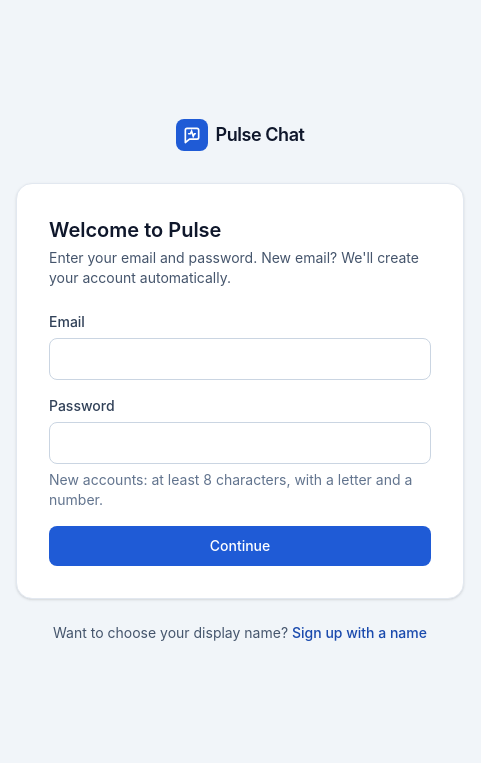
Test: login › hides the username field again if the email is changed
Type "new@example.com" into the field labelled "Email" at (240, 359), box [49,338,431,380]
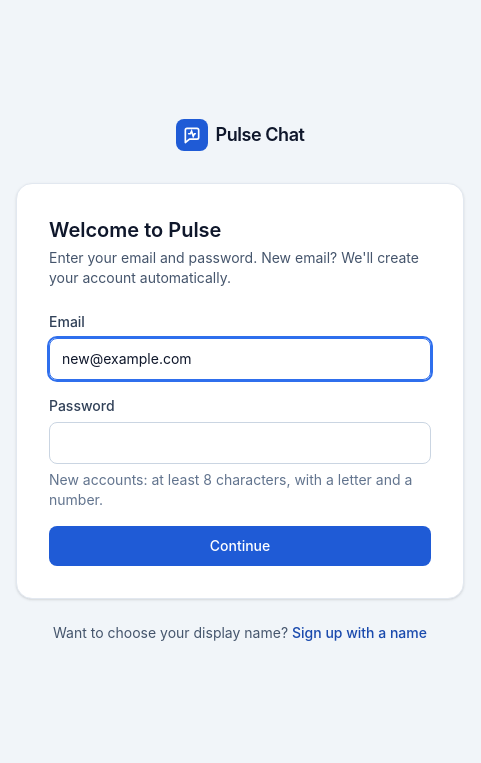
Type "Password123" into the password field labelled "Password" at (240, 443), box [49,422,431,464]
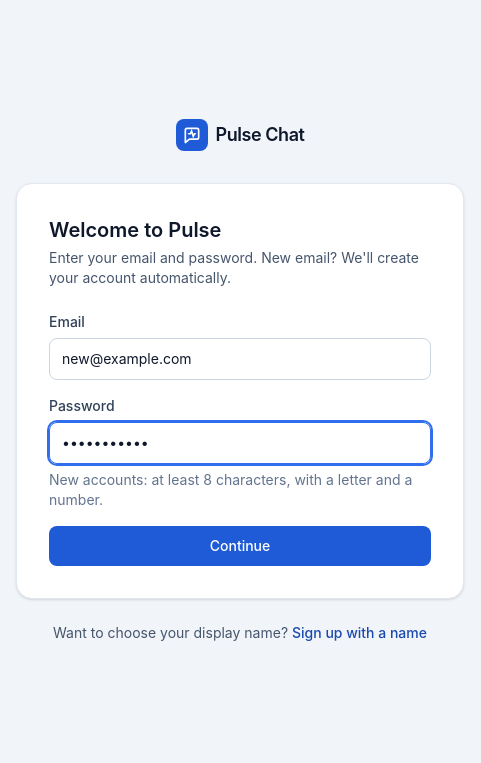
Click the button "Continue" at (240, 546), box [49,526,431,566]
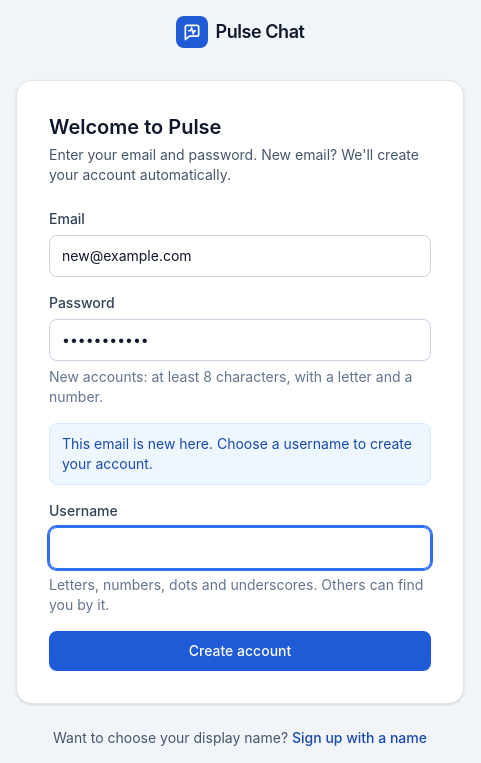
Expected: the field labelled "Username" is shown, [49,527,431,569]
Type "x" into the field labelled "Email" at (240, 256), box [49,235,431,277]
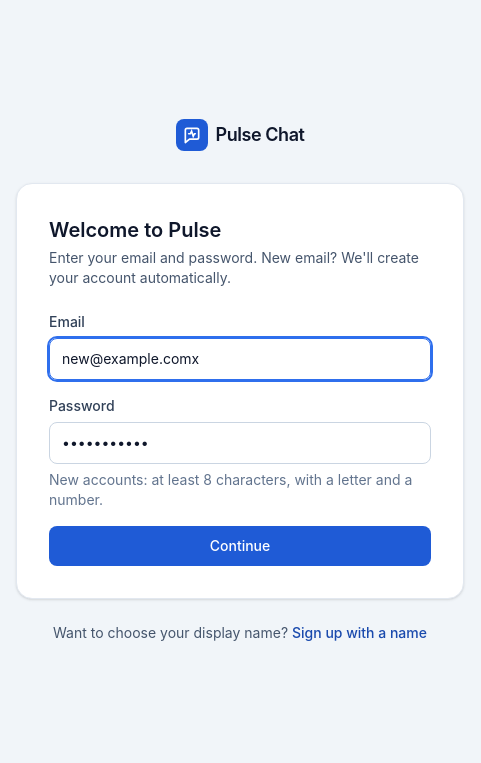
Expected: the text labelled "username" is gone
Expected: the button "Continue" is shown, [49,526,431,566]
